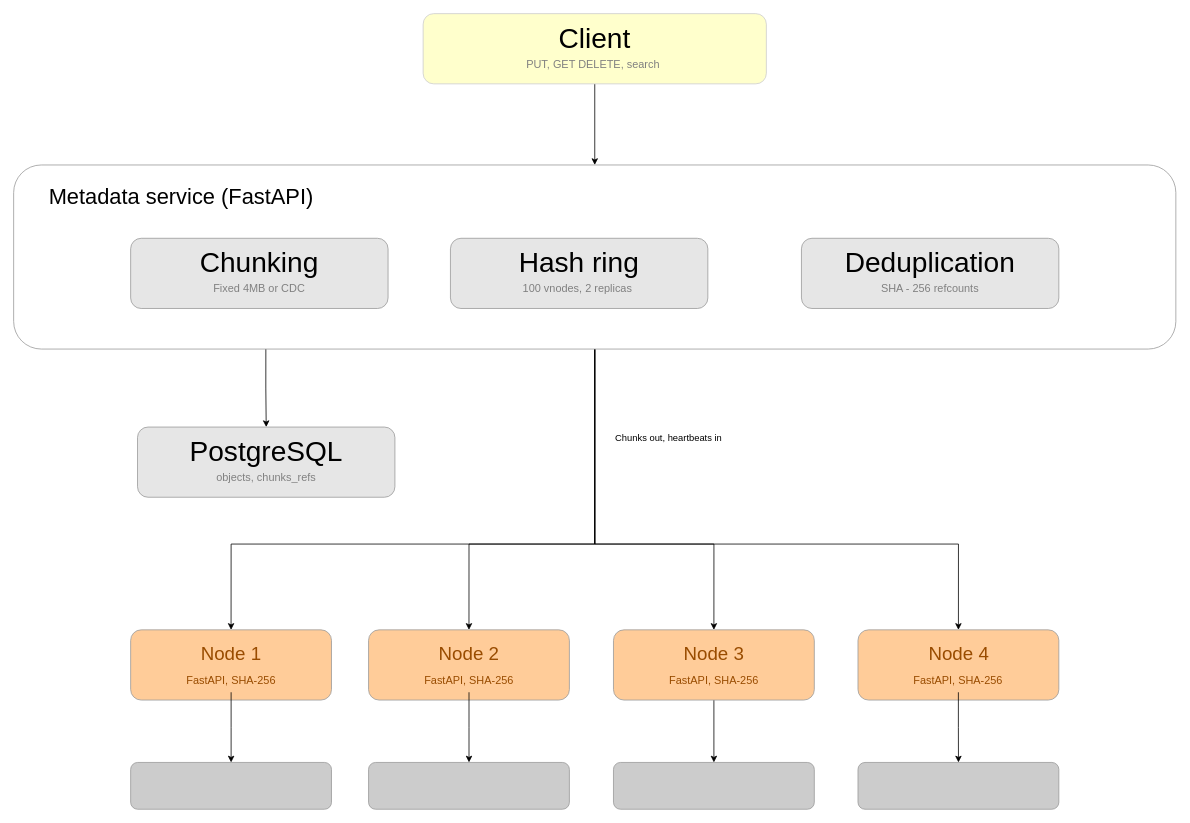
The diagram is 1190 pixels wide and 823 high, and some of its shapes have lost their labels. The shapes that lost their labels are listed below. From the top down, each one's centre as x and y in pixels, then its label:
At point (231, 785): "node1_data".
At point (468, 785): "node2_data".
At point (713, 785): "node3_data".
At point (958, 785): "node4_data".
